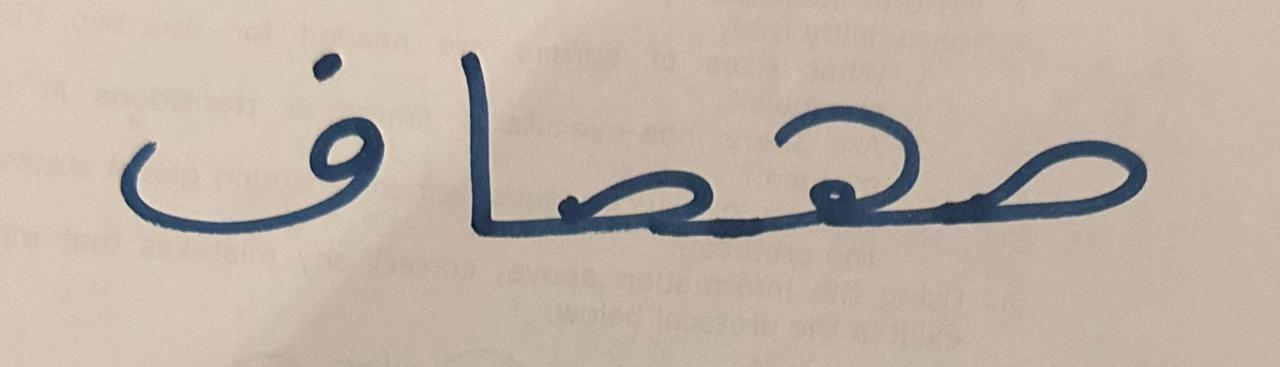alef: (415, 13, 522, 308)
feh: (74, 16, 409, 283)
jeem: (735, 14, 936, 290)
seen: (941, 36, 1192, 315), (524, 71, 731, 308)
